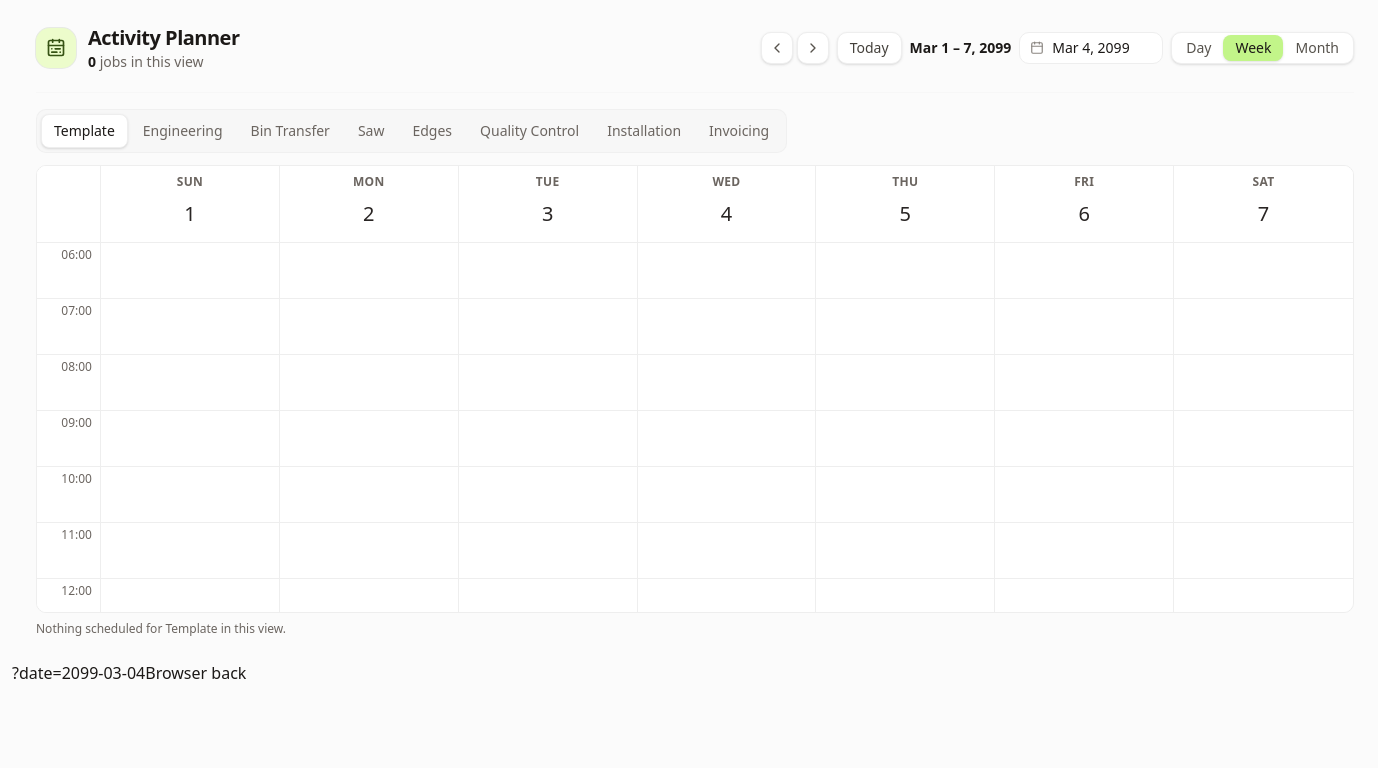
ActivityPlannerPage columns and navigation › steps a week forward and back, and returns to today
(page scrolled)
Click the button named "Next week". click: coordinates (813, 48)
box: [797,32,829,64]
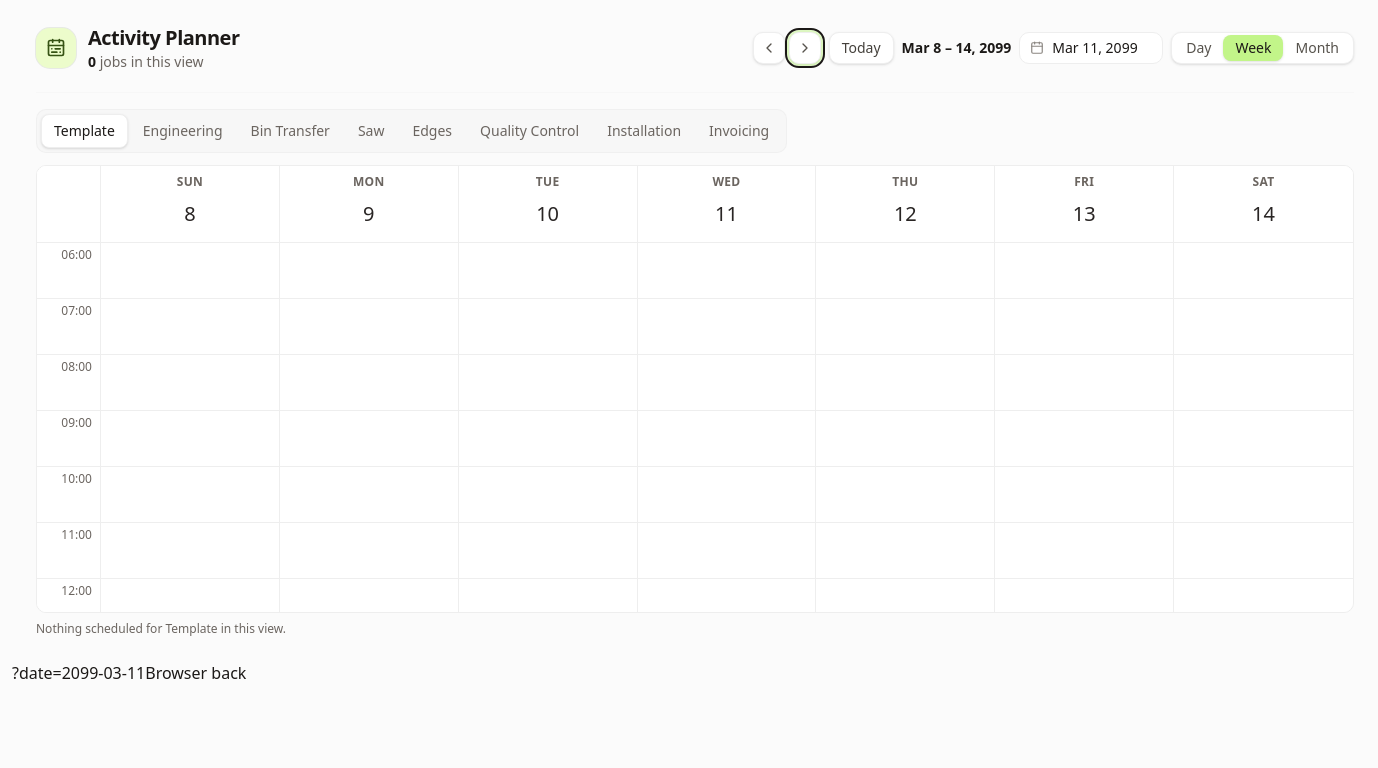
Click the button named "Previous week". click: coordinates (769, 48)
box: [753,32,785,64]
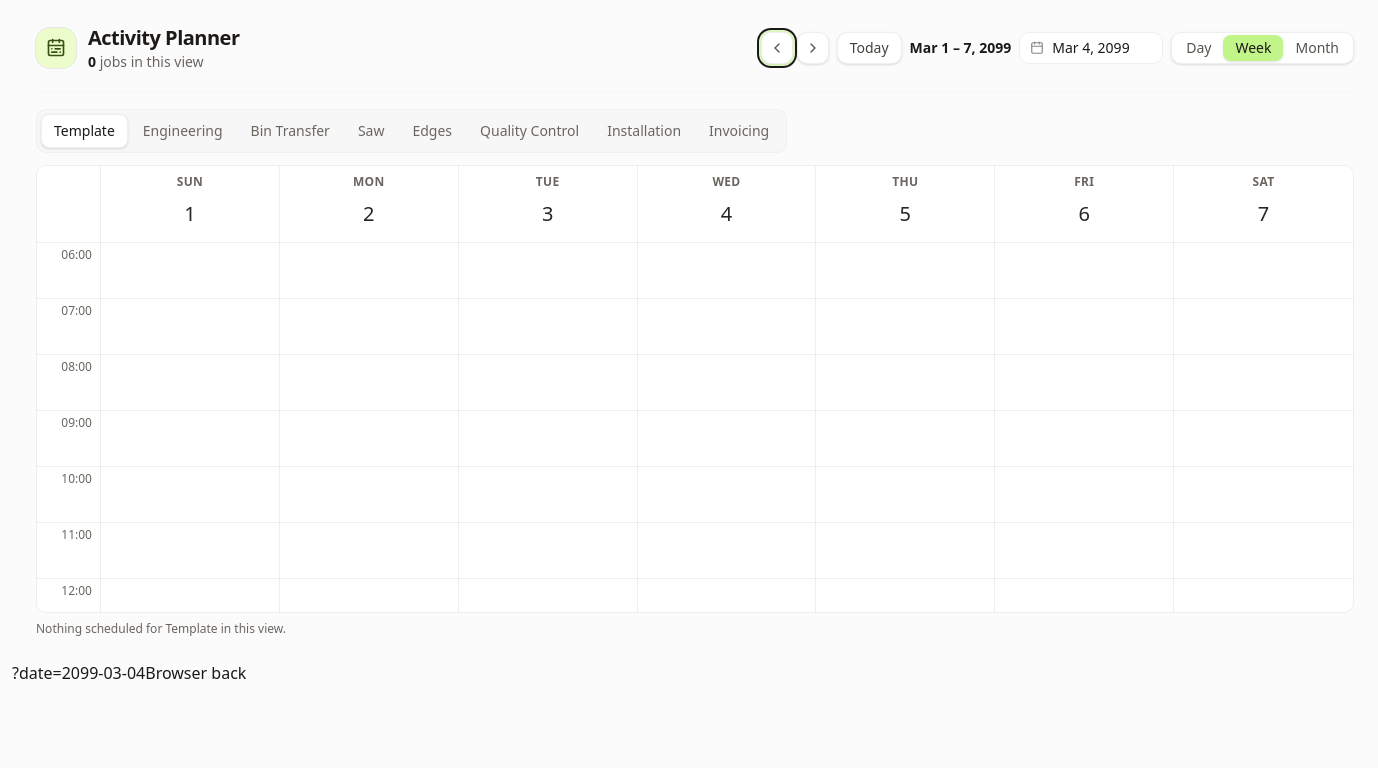
Click the button with aria-label "Go to today". click: coordinates (869, 48)
box: [837,32,902,64]
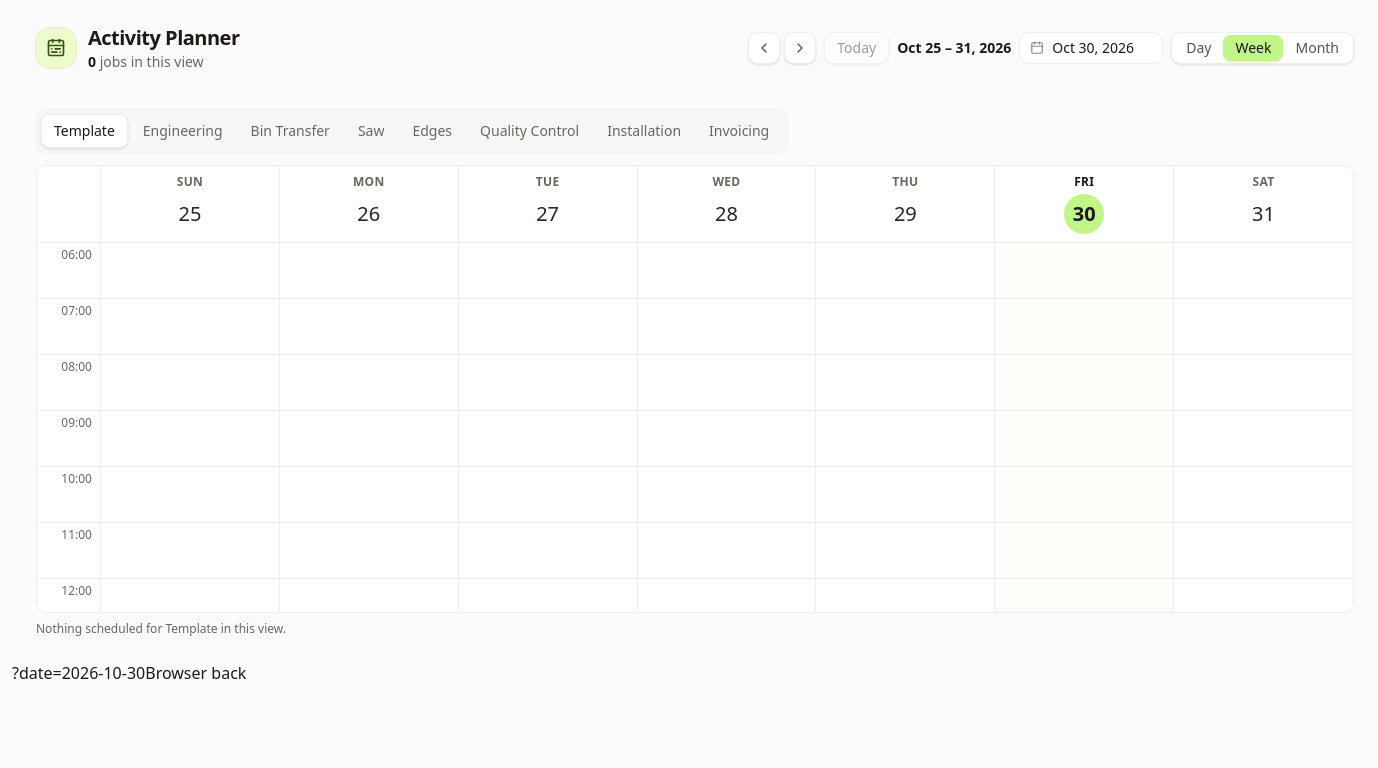
Check: the text with test id "search" no longer shows "2099-03-04"
